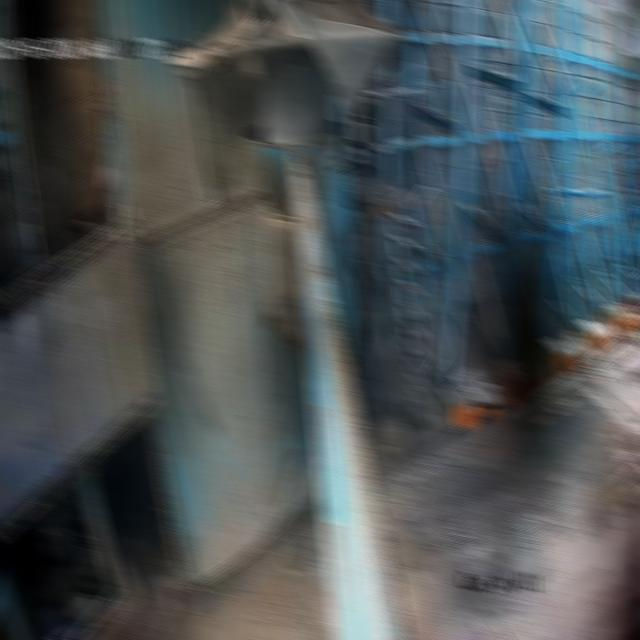swing_chute: (246, 121, 344, 354)
